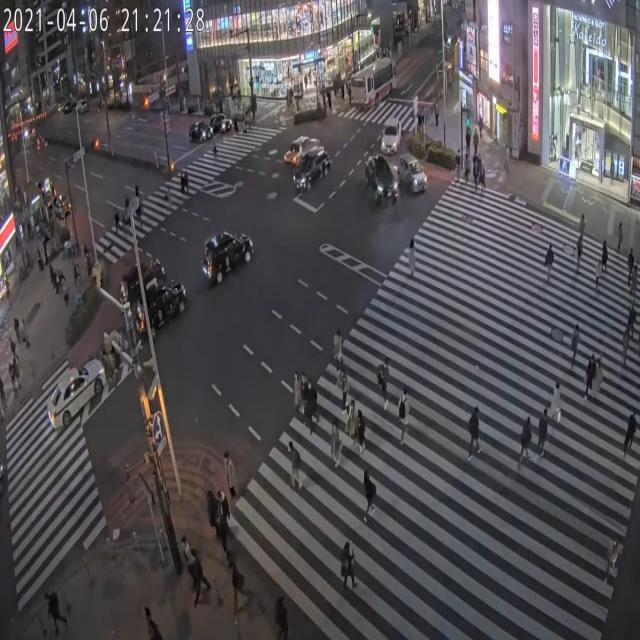humans: (358, 466, 380, 534), (227, 555, 250, 612), (376, 354, 394, 421), (288, 434, 306, 501), (337, 541, 358, 596), (268, 588, 290, 640), (518, 406, 535, 472), (606, 522, 621, 594), (467, 396, 483, 463), (396, 390, 412, 454), (220, 446, 239, 498), (215, 512, 231, 572), (546, 374, 564, 426), (214, 485, 230, 542), (204, 493, 220, 546), (330, 416, 344, 475), (538, 409, 554, 459), (338, 361, 352, 417), (307, 371, 320, 430), (300, 364, 312, 424), (192, 544, 203, 606), (624, 404, 638, 452), (180, 527, 192, 583), (331, 324, 345, 371), (569, 236, 585, 277), (356, 408, 366, 465), (292, 368, 303, 419), (546, 242, 558, 288), (576, 213, 588, 256), (571, 322, 581, 373), (585, 347, 594, 402), (408, 228, 416, 285), (463, 151, 474, 190), (347, 401, 357, 443), (624, 305, 637, 337), (599, 235, 608, 281), (615, 217, 625, 258), (594, 258, 604, 295), (480, 144, 486, 202), (472, 154, 480, 193), (622, 329, 628, 379), (456, 145, 462, 189), (628, 245, 634, 285), (595, 353, 599, 402), (632, 258, 636, 298)
